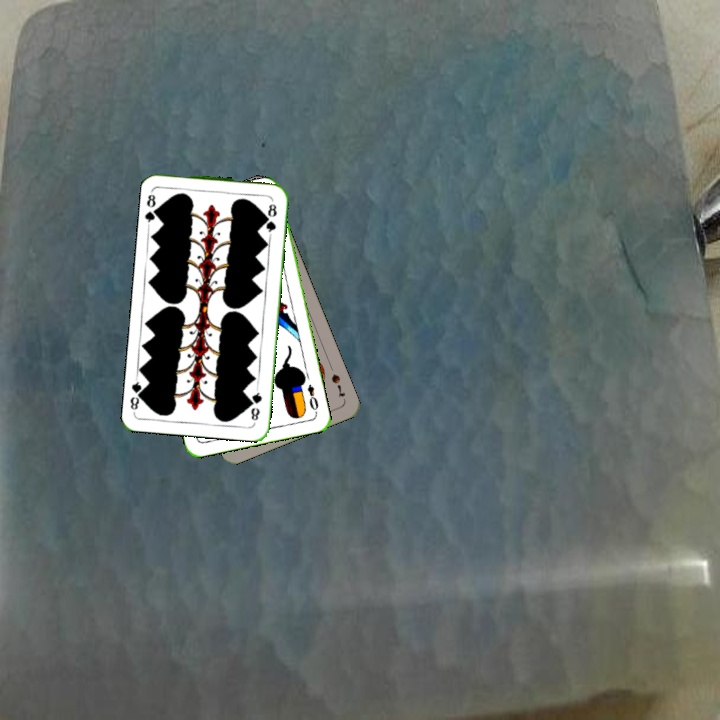EO: (303, 380, 321, 416)
G8: (141, 186, 162, 227), (247, 384, 264, 423)
S7: (327, 370, 348, 399)
